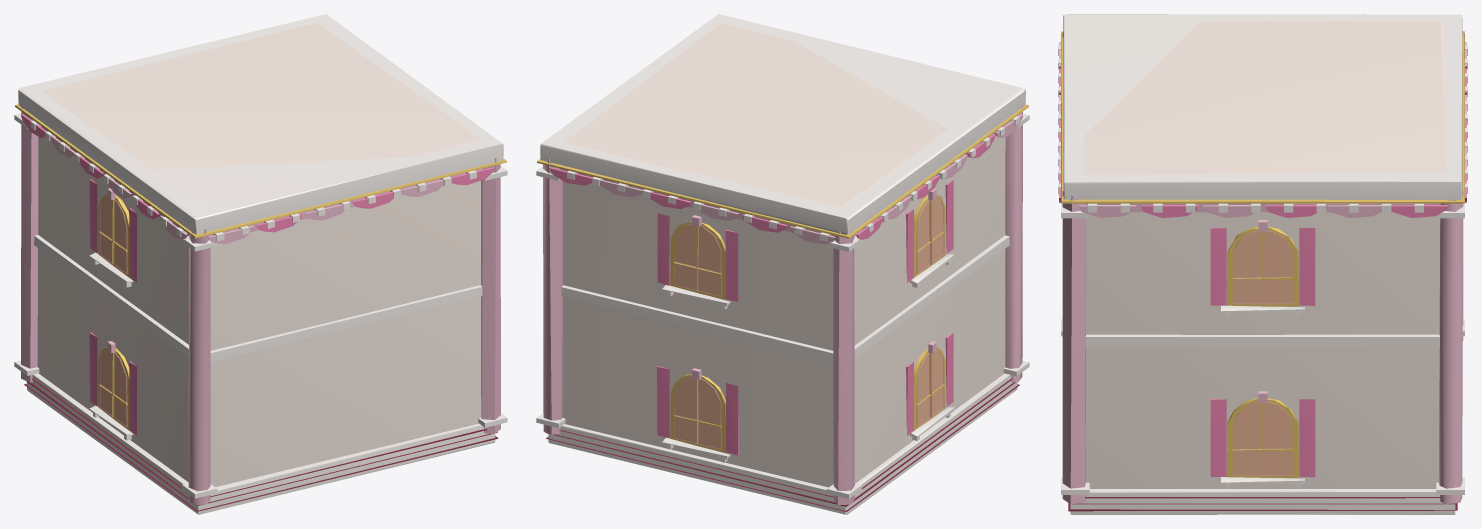
File: house_shell.glb
3 renders of one model, left to right at view 1: azimuth 30°, elevation 25°; view 2: azimuth 150°, elevation 25°; view 3: azimuth 270°, elevation 25°, orthographic. The views are drawn at different scales.
Visible parts, largest first — view 1: house_shell; view 2: house_shell; view 3: house_shell.
Boxes of the visible parts, x1,y1,x2,y2 form: house_shell: (14,14,507,514); house_shell: (536,14,1029,514); house_shell: (1058,14,1467,514).
Size of the model in its own units: 8.78 by 7.98 by 8.78.
